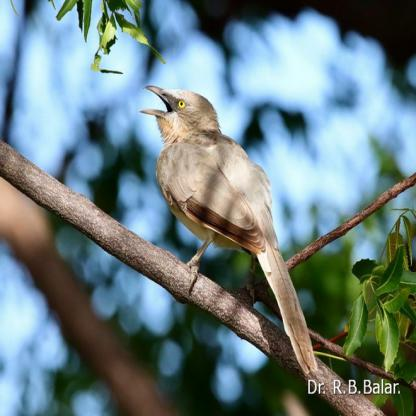Burung: (139, 83, 318, 373)
